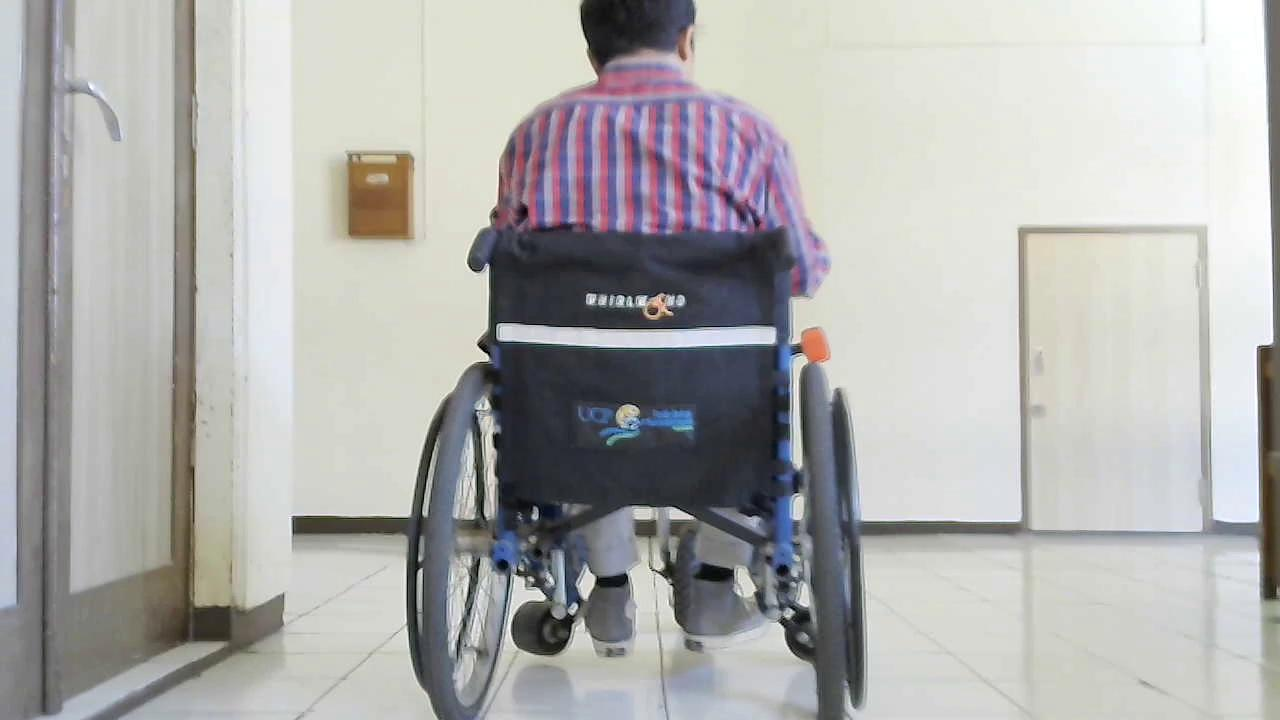person: (466, 4, 836, 685)
wheelchair: (390, 204, 900, 720)
